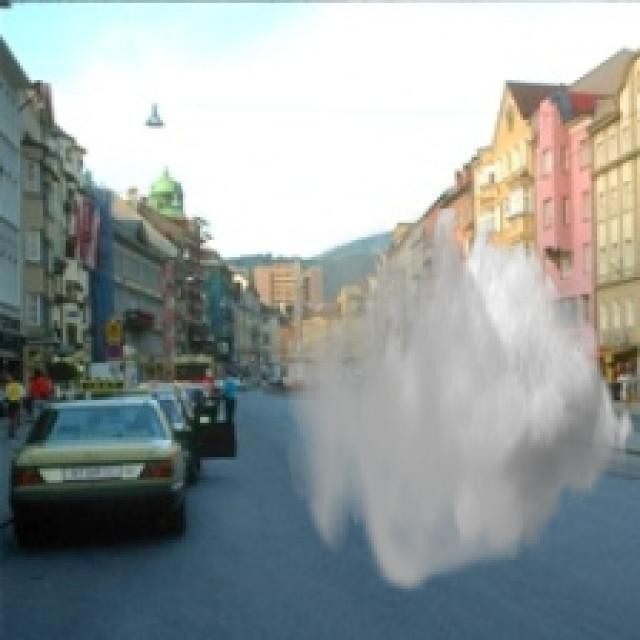smoke: (283, 209, 637, 597)
